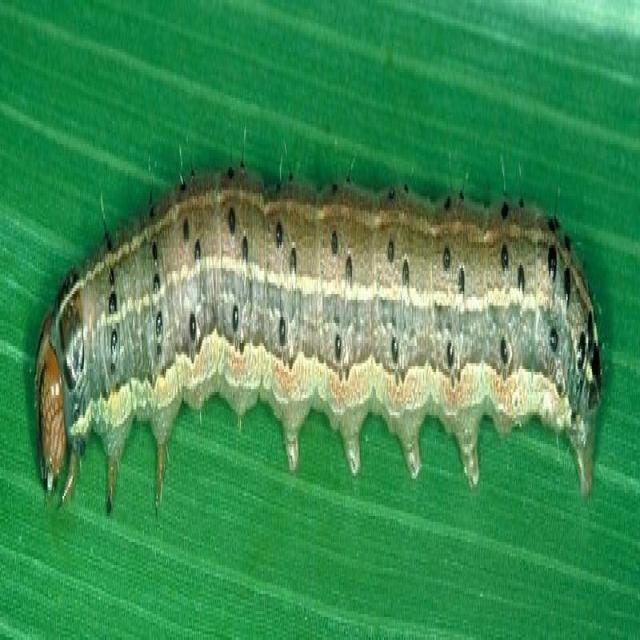Corn-earworm: (29, 117, 605, 563)
